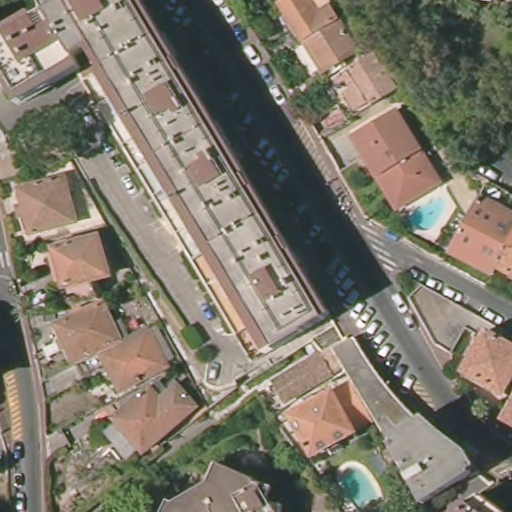pool: (336, 463, 385, 512), (409, 194, 447, 234)
